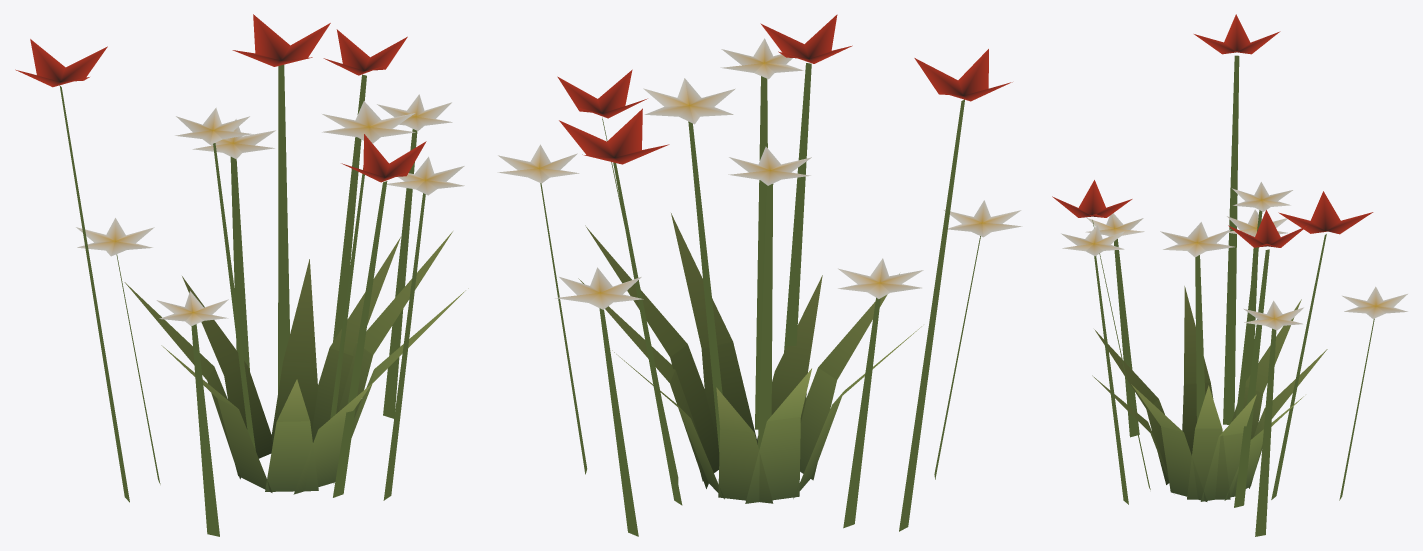
File: flowers_a.glb
The picture shows the model from 3 angles, left to right: view 1: azimuth 30°, elevation 25°; view 2: azimuth 150°, elevation 25°; view 3: azimuth 270°, elevation 25°; orthographic projection. The views are drawn at different scales.
Parts seen in each view (by area): view 1: flowers_a; view 2: flowers_a; view 3: flowers_a.
Boxes of the visible parts, left/top/right/bottom form: flowers_a: left=15, top=14, right=468, bottom=536; flowers_a: left=497, top=14, right=1022, bottom=536; flowers_a: left=1052, top=14, right=1407, bottom=536.
Size of the model in its own units: 0.5952 by 0.5568 by 0.4897.
